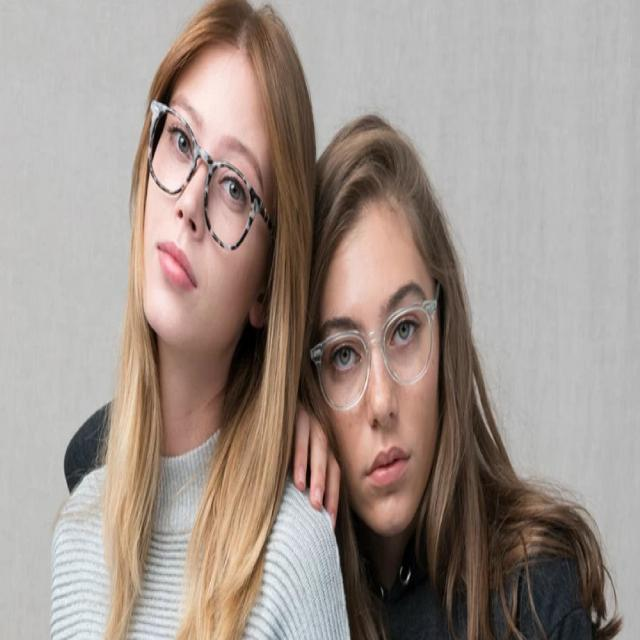Glasses: (146, 95, 279, 259), (309, 272, 446, 420)
